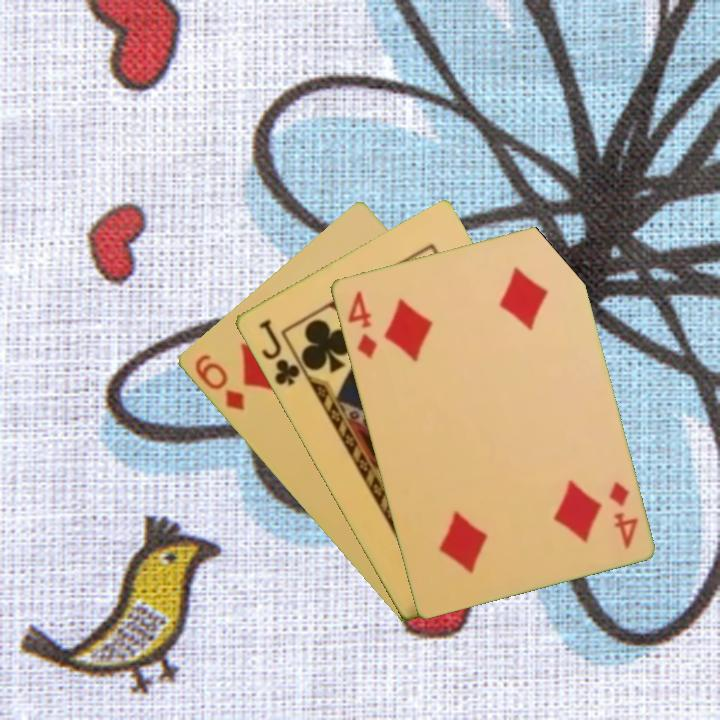4d: (343, 287, 380, 362), (605, 477, 641, 552)
6d: (190, 350, 248, 414)
Jc: (254, 315, 303, 389)
